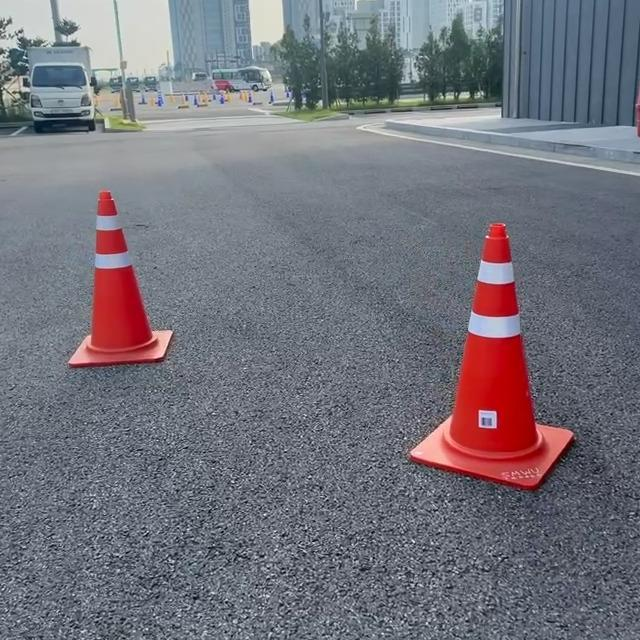fallen_object: (387, 192, 627, 609), (56, 153, 226, 453)
